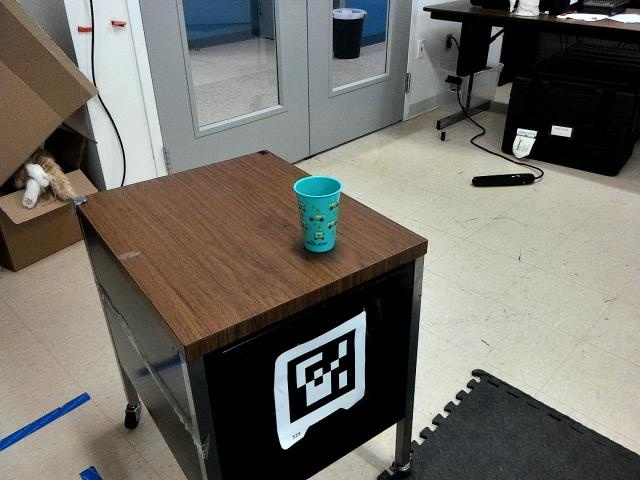coffee_cup: (291, 174, 344, 253)
